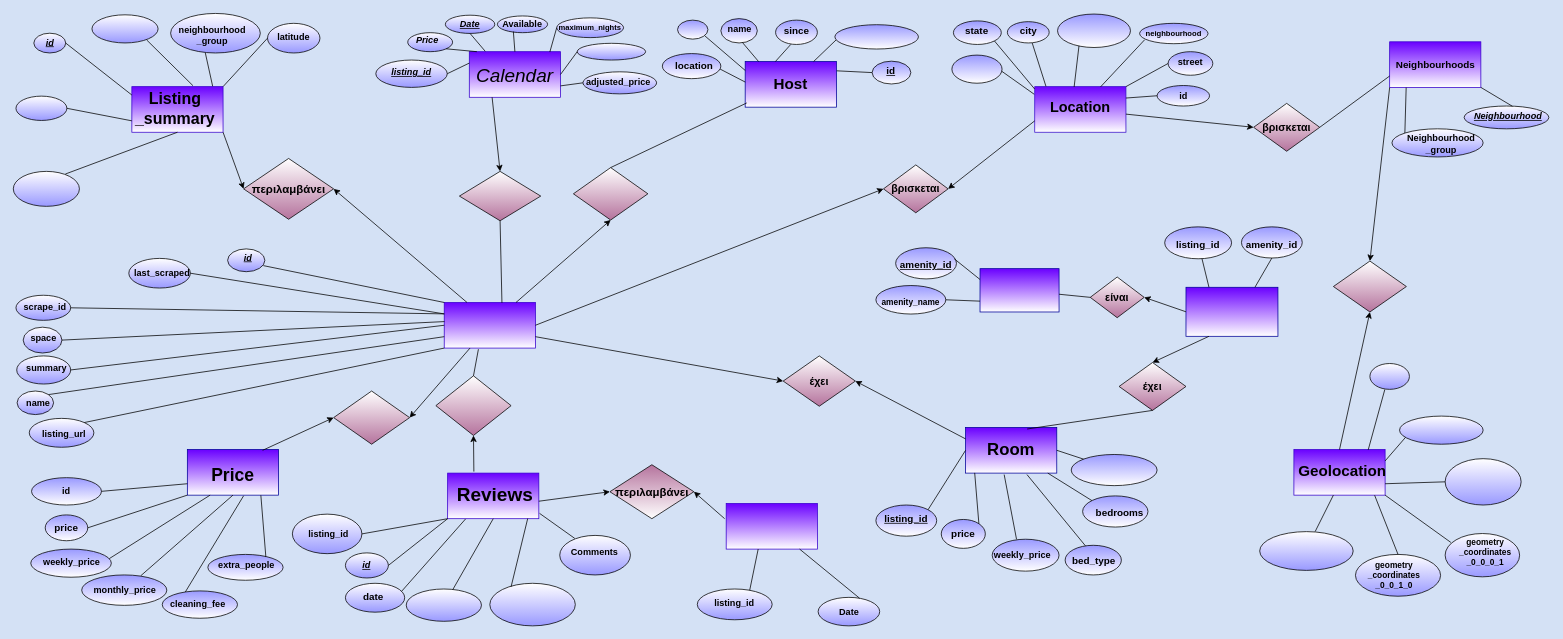
Image size: 1563x639. Some labels were removed from this diagram. The shapes that lost their labels are listed below. From the top down, each one's centre as x and y in pixels, then its label:
At (x=124, y=28): "host_name".
At (x=692, y=29): "url".
At (x=876, y=36): "response_time".
At (x=1093, y=30): "neighbourhood _cleansed".
At (x=611, y=51): "minimum_nights".
At (x=976, y=68): "zipcode".
At (x=41, y=107): "host_id".
At (x=46, y=188): "longitude".
At (x=500, y=196): "κράτηση".
At (x=610, y=193): "ανήκει".
At (x=1019, y=290): "amenities".
At (x=1369, y=286): "βρίσκεται".
At (x=489, y=325): "Listings".
At (x=1231, y=311): "room_ammenities_ connection".
At (x=1389, y=376): "type".
At (x=371, y=417): "κοστίζει".
At (x=473, y=405): "αξιολογεί".
At (x=1441, y=429): "geometry_type".
At (x=1113, y=470): "accommodates".
At (x=1482, y=481): "geometry _coordinates _0_0_0_0".
At (x=771, y=526): "Reviews _summary".
At (x=1306, y=550): "properties _neighbourhood".
At (x=443, y=604): "reviewer_id".
At (x=532, y=604): "reviewer_name".
